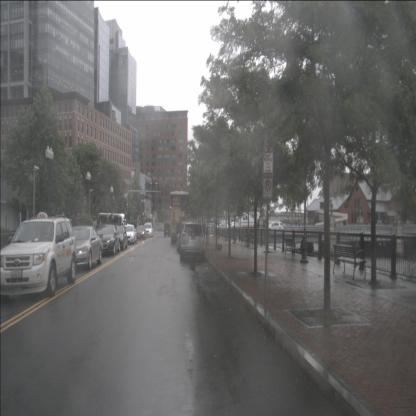human-pedestrian-adult: (203, 221, 206, 241), (366, 220, 368, 233)
vehicle-bus-rigid: (170, 191, 190, 243), (98, 213, 128, 238)
vehicle-car: (1, 217, 77, 299), (62, 226, 102, 270), (180, 222, 205, 262), (176, 220, 202, 254), (96, 225, 121, 255), (110, 226, 127, 250), (122, 225, 137, 245), (268, 222, 284, 232), (143, 222, 153, 238), (136, 225, 146, 240), (164, 224, 175, 237), (217, 223, 229, 231)
vehicle-truck: (230, 211, 260, 232)
